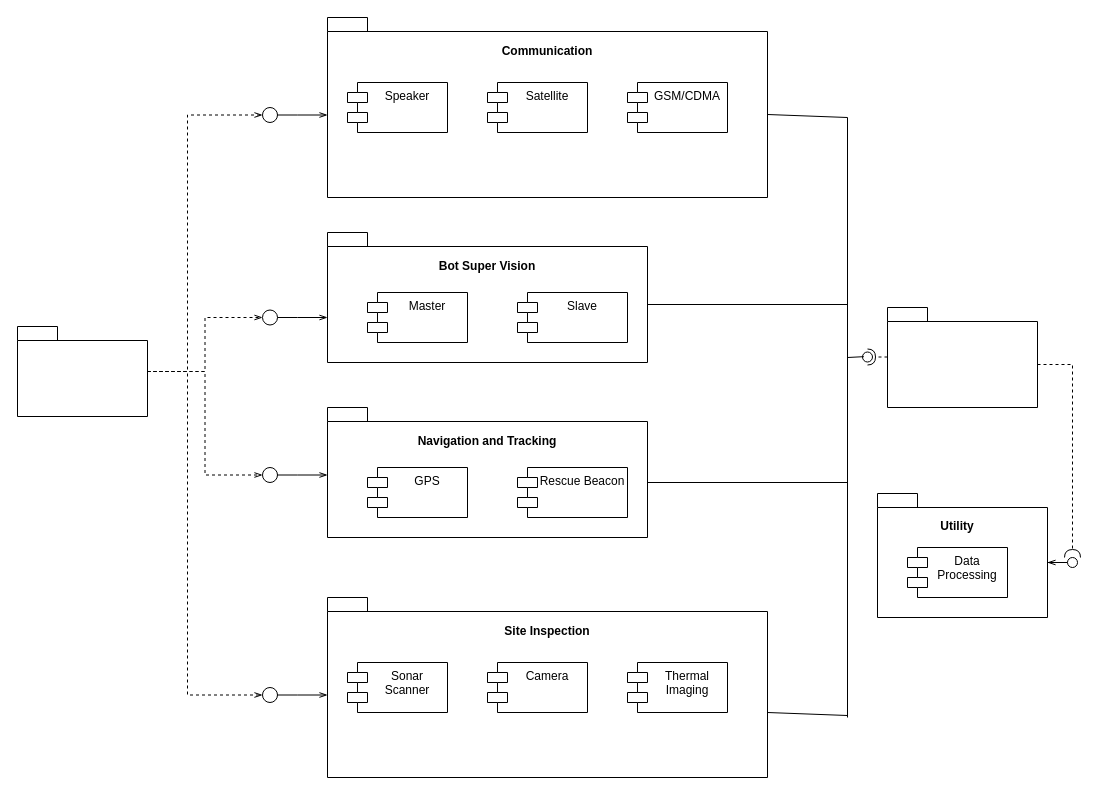
Image size: 1098x795. Some labels were removed from this diagram. The shapes that lost their labels are listed below. From the top down, each one's box as (x1, y1, x2, y2) in pixels, then its label:
(16, 326, 148, 416): Human Machine Interface <<UI>>
(886, 306, 1038, 408): Rescue Operation details
